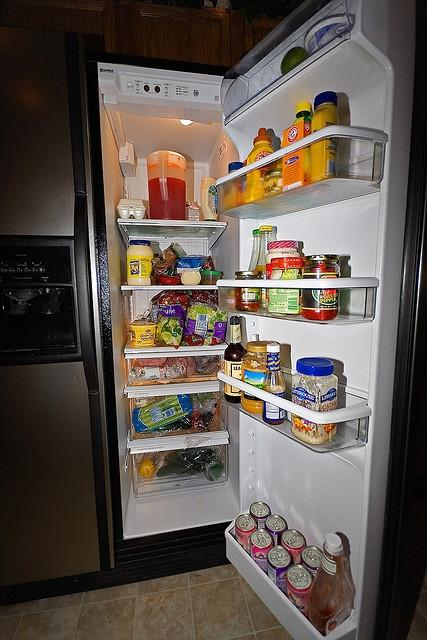celery: (139, 398, 180, 419)
